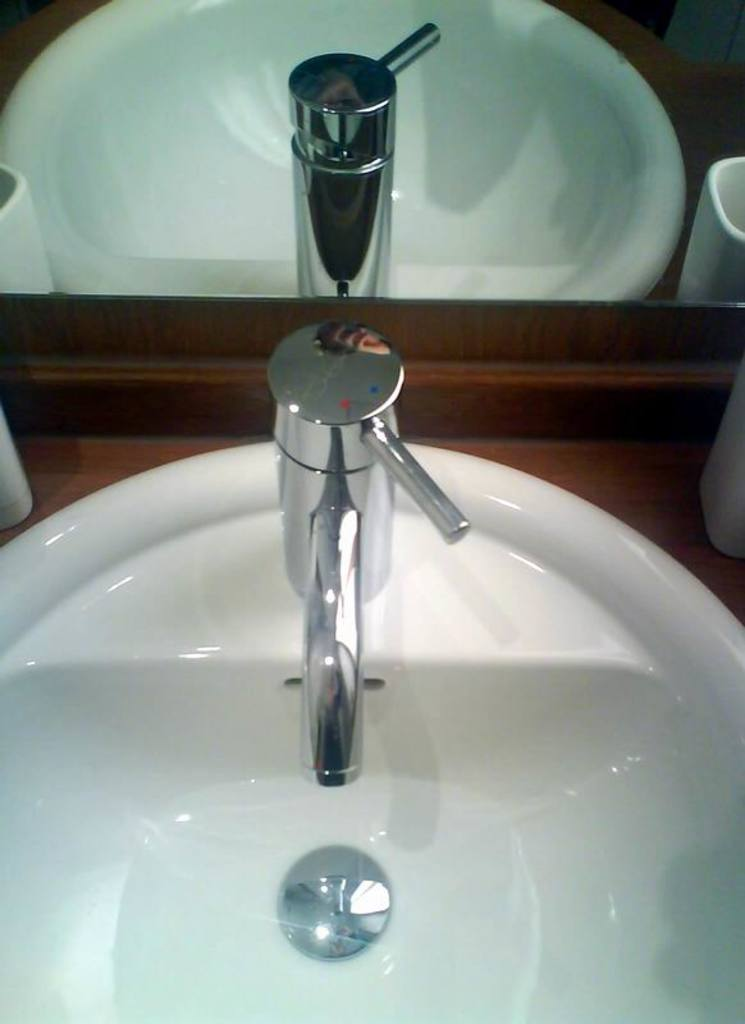tap: (262, 317, 469, 782)
